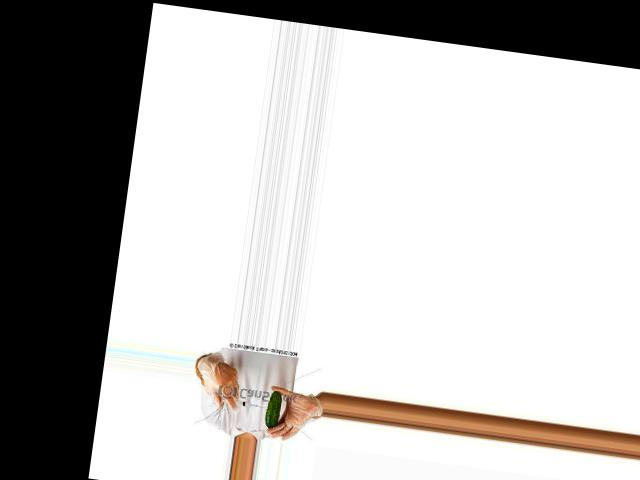cucumber: (265, 390, 283, 430)
